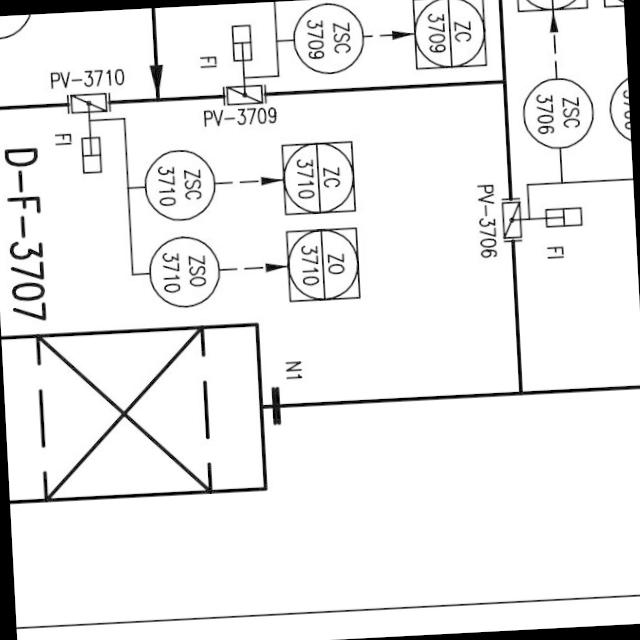BVWA: (212, 18, 272, 109), (62, 88, 120, 180), (496, 190, 589, 246)
D3: (0, 316, 273, 514)
